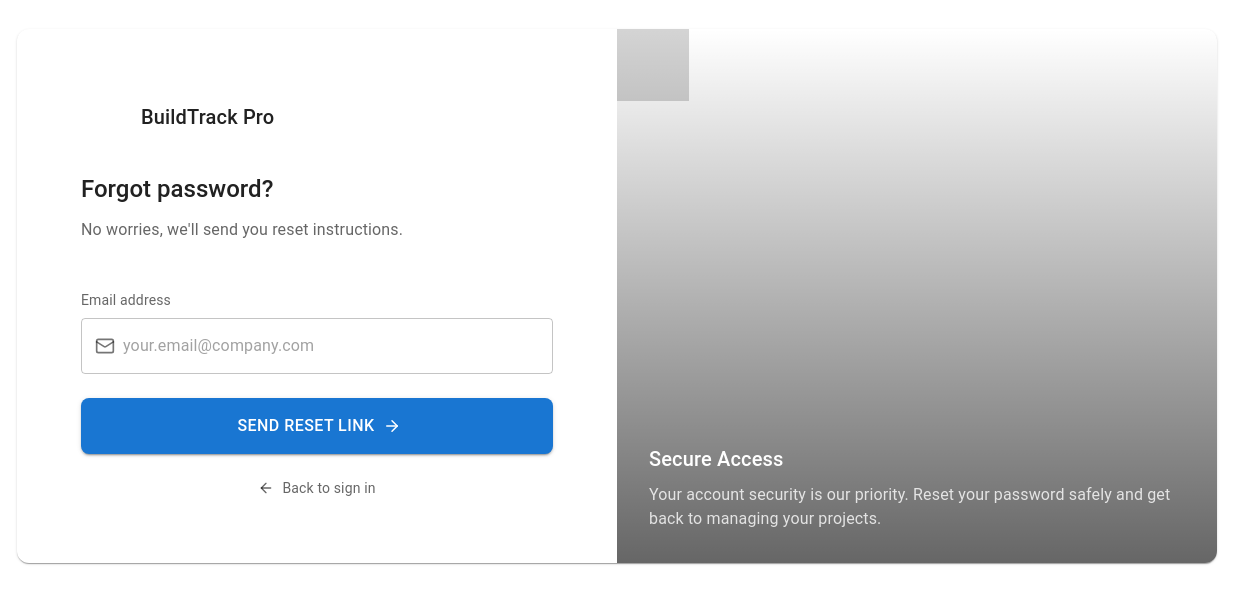
ForgotPasswordPage › displays submitted email in success message
Type "user@company.com" into the field named "email address".
click(338, 346); type("user@company.com")  # box left=123, top=318, right=553, bottom=374
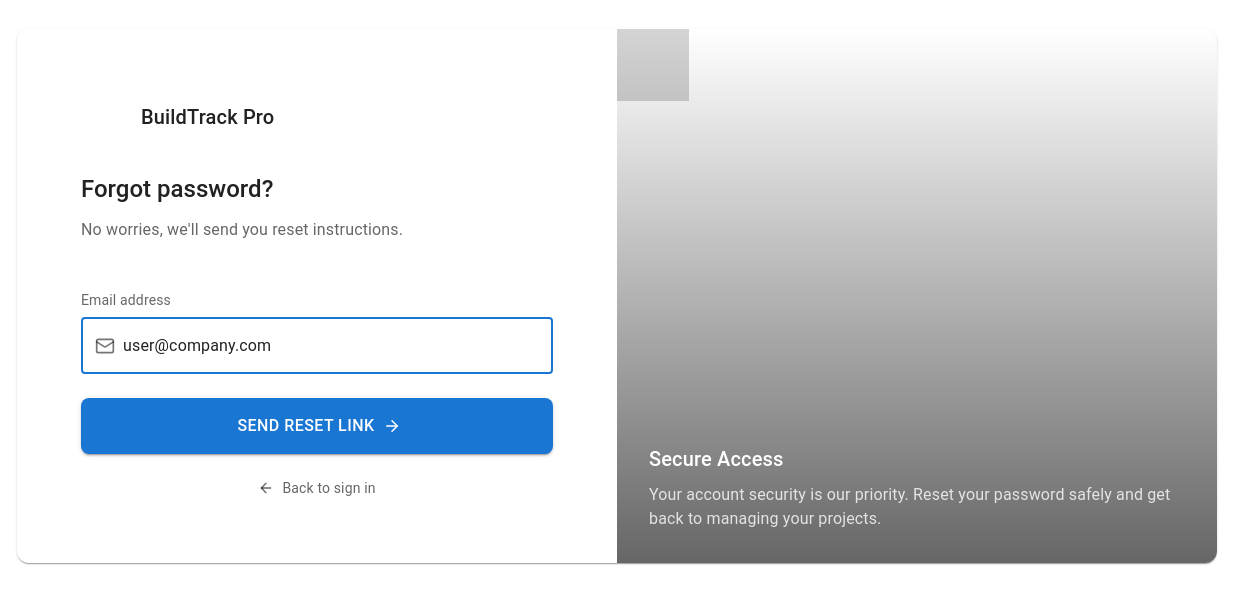
Click the button "Send reset link".
click(317, 426)  # box left=81, top=398, right=553, bottom=454
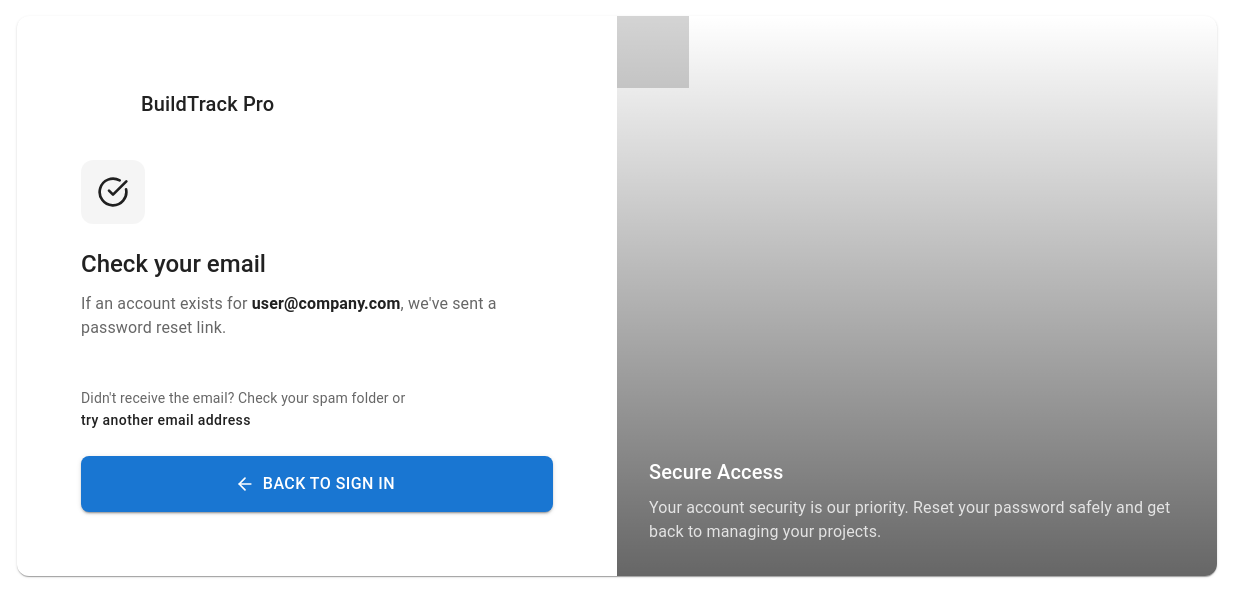
Check: the text "user@company.com" is shown, box left=252, top=294, right=401, bottom=313
